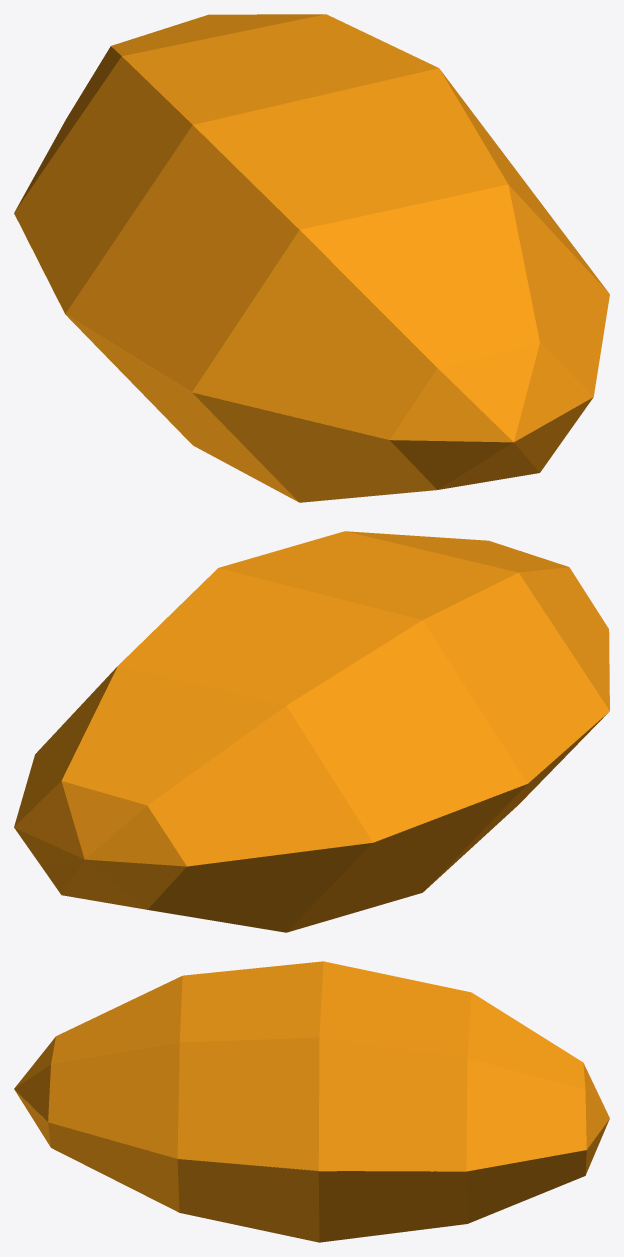
Rendered from Mango.fbx.
3 renders of one model, top to bottom at view 1: azimuth 30°, elevation 25°; view 2: azimuth 150°, elevation 25°; view 3: azimuth 270°, elevation 25°, orthographic. The views are drawn at different scales.
Parts seen in each view (by area): view 1: Mango_All, Mango_Piece; view 2: Mango_All, Mango_Piece; view 3: Mango_All, Mango_Piece.
Boxes of the visible parts, <box> form: Mango_All: <box>14,14,609,502</box>; Mango_Piece: <box>18,221,593,442</box>; Mango_All: <box>14,531,609,932</box>; Mango_Piece: <box>14,632,609,869</box>; Mango_All: <box>14,961,609,1242</box>; Mango_Piece: <box>18,1093,609,1242</box>.
Bounding box in the file's own units: 6.47 × 4.22 × 11.09.
1 material, 1 textured.
